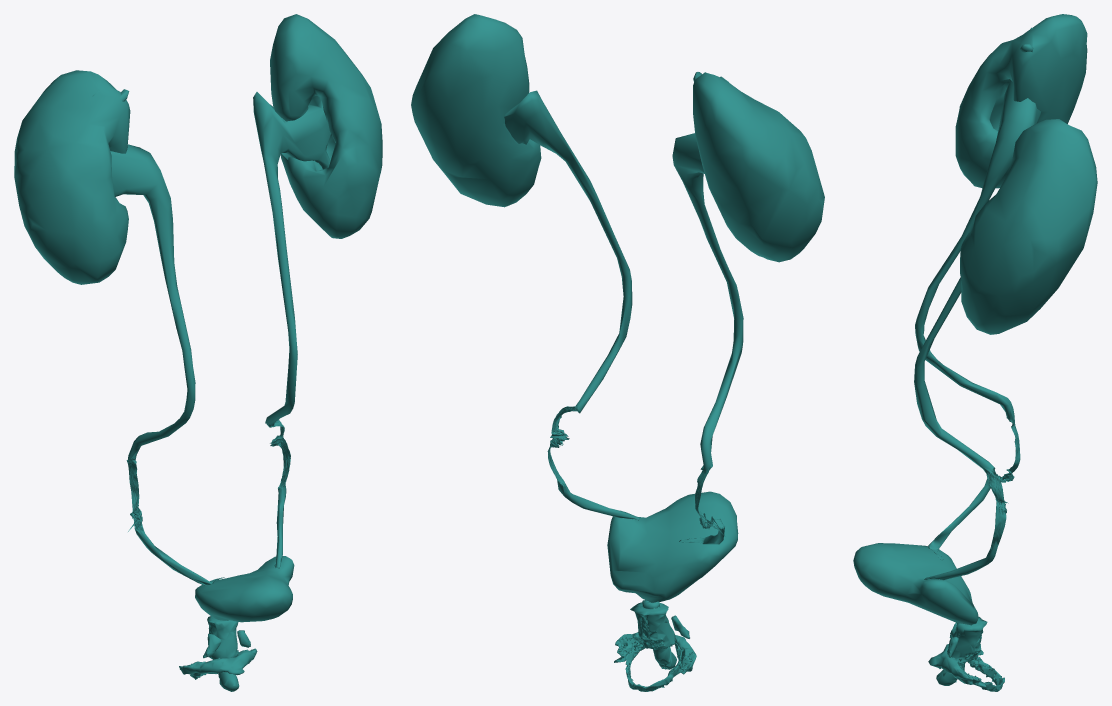
File: urinary.glb
3 views of the same model, side by side, from view 1: azimuth 30°, elevation 25°; view 2: azimuth 150°, elevation 25°; view 3: azimuth 270°, elevation 25° (orthographic). The views are drawn at different scales.
Visible parts, largest first — view 1: VF_kidney_right, VF_kidney_left, W_FJ3144, W_FJ3146, VF_urinary_bladder, WU_urethral_compressor_muscle, WU_urethral_sphincter_proper; view 2: VF_kidney_left, VF_kidney_right, VF_urinary_bladder, W_FJ3144, W_FJ3146, WU_urethral_sphincter_proper, WU_urethral_compressor_muscle, WU_urethro_vaginal_sphincter; view 3: VF_kidney_left, VF_kidney_right, VF_urinary_bladder, W_FJ3146, W_FJ3144, WU_urethral_sphincter_proper, WU_urethral_compressor_muscle, WU_urethro_vaginal_sphincter.
Boxes of the visible parts, x1,y1,x2,y2 form: VF_kidney_right: [14, 70, 130, 284]; VF_kidney_left: [270, 14, 382, 238]; W_FJ3144: [253, 92, 331, 568]; W_FJ3146: [92, 89, 224, 585]; VF_urinary_bladder: [195, 556, 294, 622]; WU_urethral_compressor_muscle: [179, 648, 257, 675]; WU_urethral_sphincter_proper: [207, 616, 238, 659]; VF_kidney_left: [411, 14, 541, 207]; VF_kidney_right: [693, 72, 824, 262]; VF_urinary_bladder: [607, 491, 738, 602]; W_FJ3144: [504, 90, 638, 520]; W_FJ3146: [672, 72, 743, 544]; WU_urethral_sphincter_proper: [630, 602, 676, 649]; WU_urethral_compressor_muscle: [614, 632, 696, 674]; WU_urethro_vaginal_sphincter: [625, 641, 681, 691]; VF_kidney_left: [960, 119, 1097, 334]; VF_kidney_right: [955, 14, 1087, 188]; VF_urinary_bladder: [853, 543, 978, 624]; W_FJ3146: [915, 27, 1040, 560]; W_FJ3144: [914, 277, 1008, 580]; WU_urethral_sphincter_proper: [947, 616, 987, 664]; WU_urethral_compressor_muscle: [928, 644, 986, 687]; WU_urethro_vaginal_sphincter: [967, 657, 1004, 691].
Size of the model in its own units: 0.1992 by 0.3241 by 0.1142.
